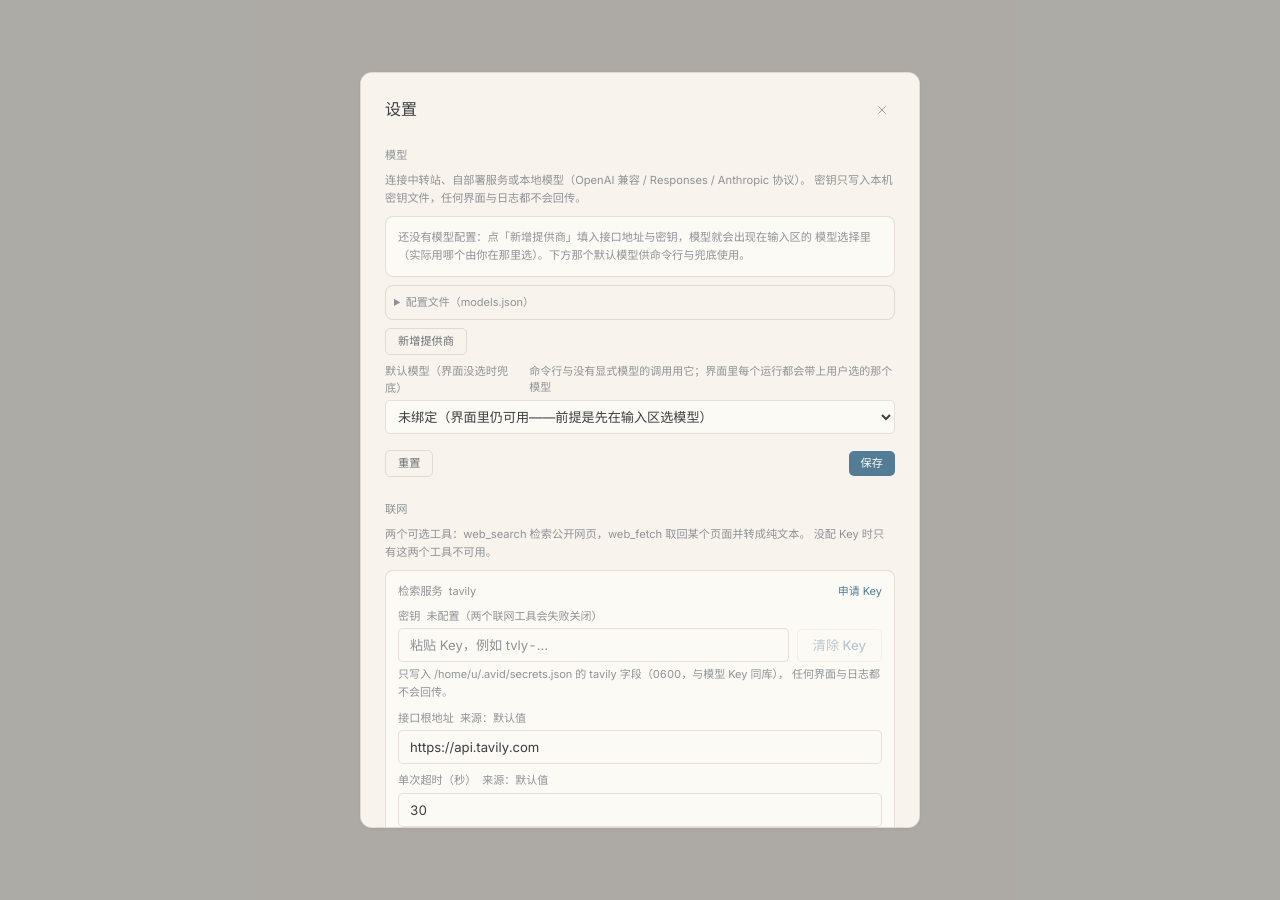
Test: SettingsModal（设置界面 · BYOK 模型段） › 校验：接口地址缺协议时给出可执行的错误，不发起保存
Click the button "新增提供商" at {"x": 426, "y": 341}, box [385,328,467,355]
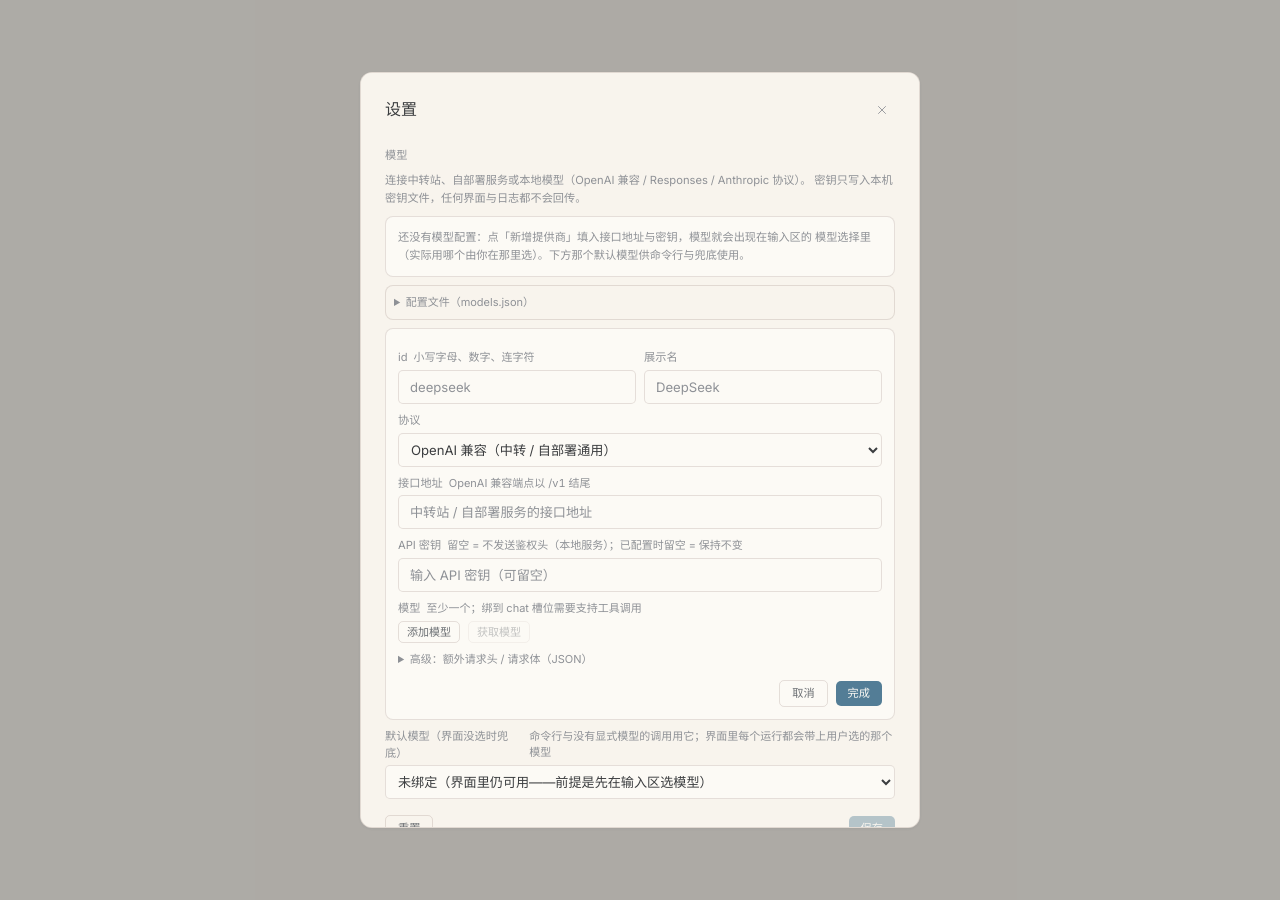
Type "x" into the field with placeholder "deepseek" at {"x": 517, "y": 387}, box [398,370,636,404]
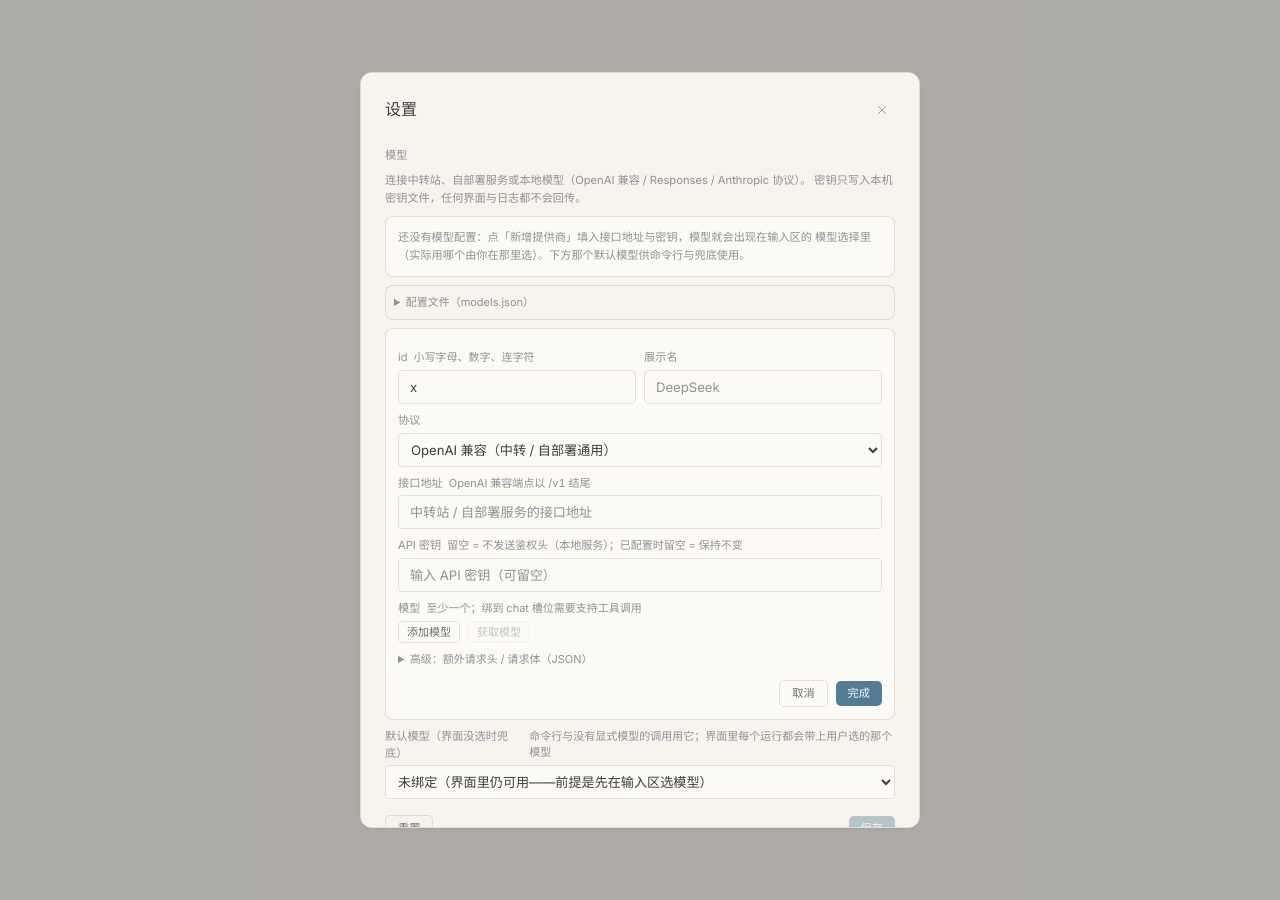
Type "X" into the field with placeholder "DeepSeek" at {"x": 763, "y": 387}, box [644,370,882,404]
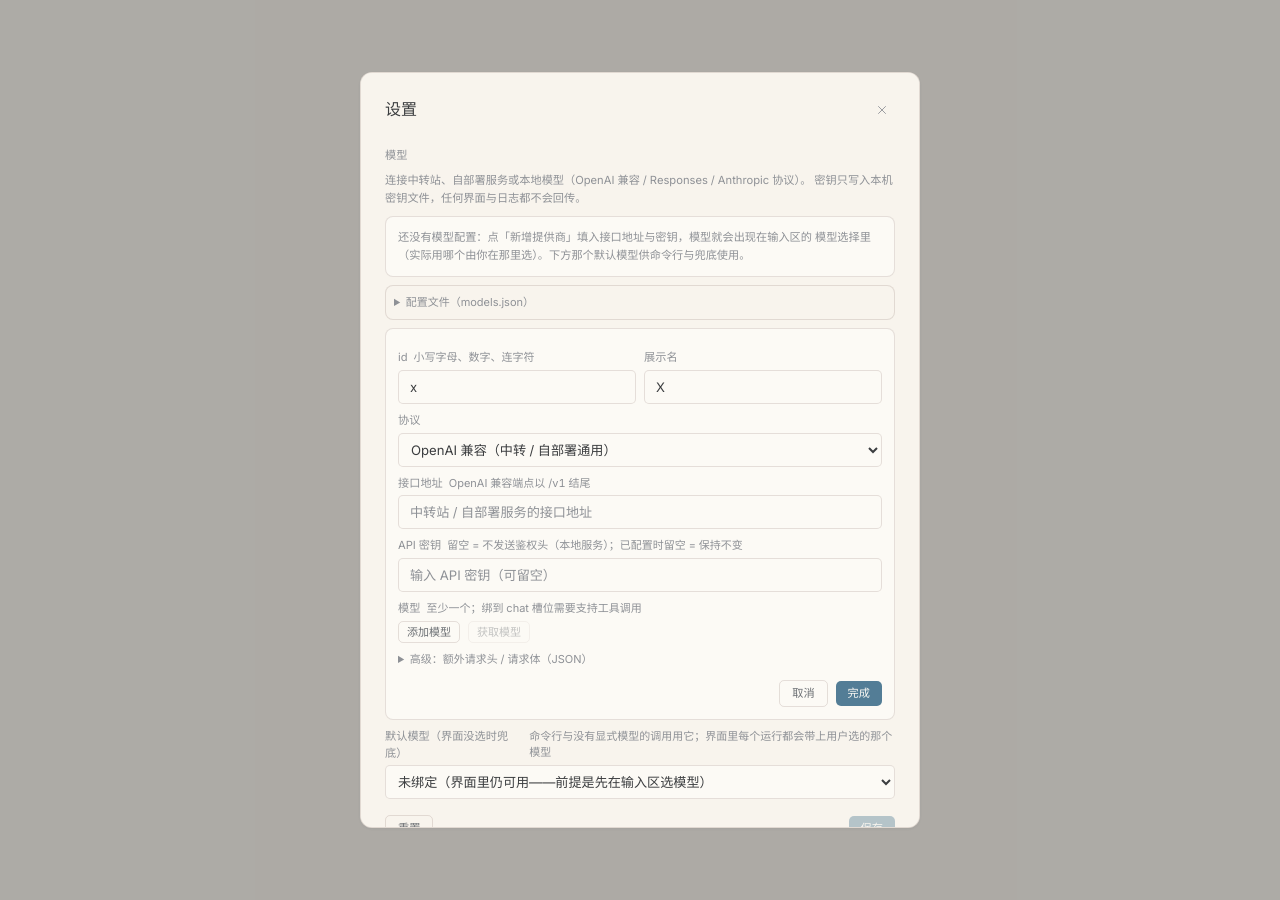
Type "api.example.com/v1" into the field with placeholder "中转站 / 自部署服务的接口地址" at {"x": 640, "y": 512}, box [398,495,882,529]
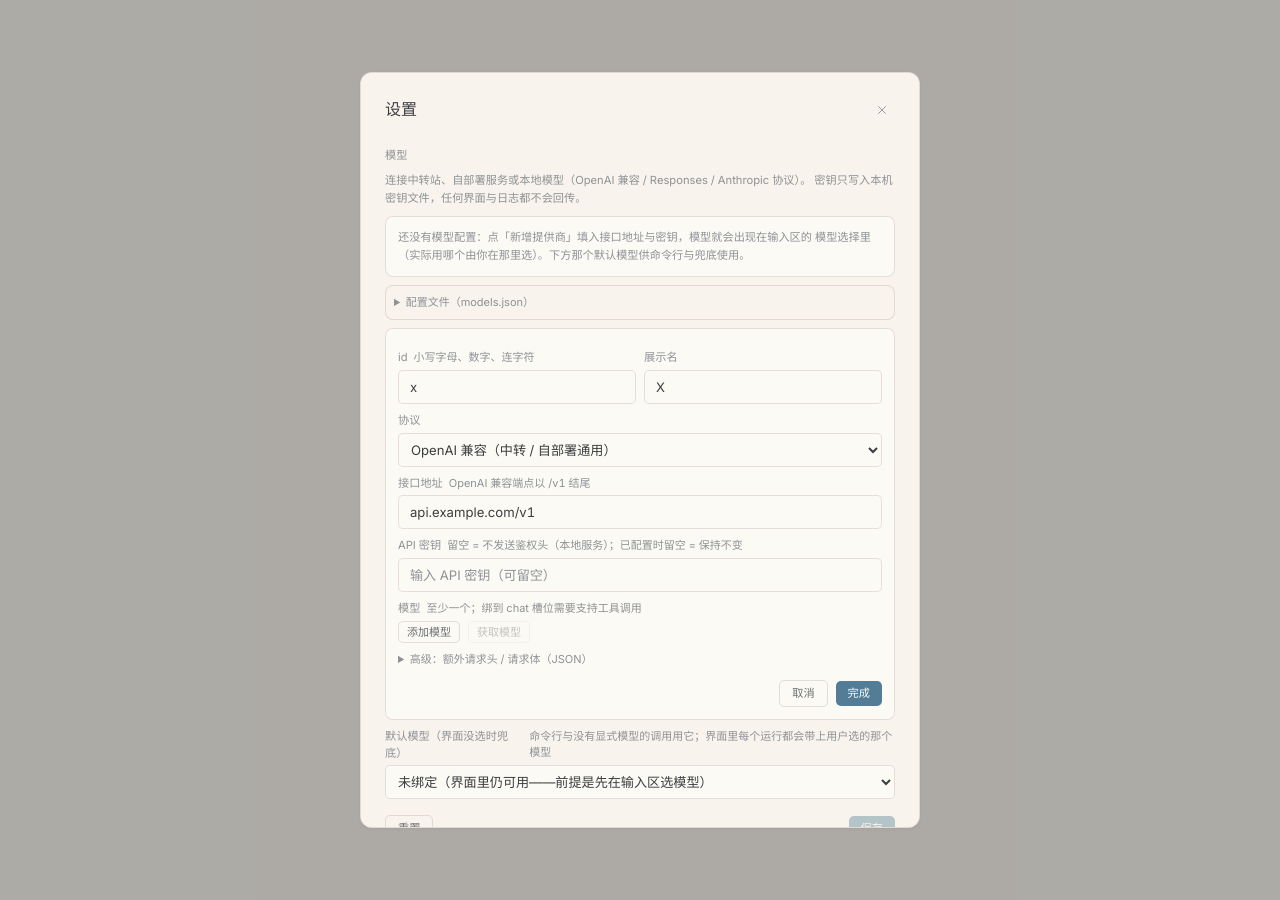
Click the button "完成" at {"x": 859, "y": 693}, box [836,681,882,706]
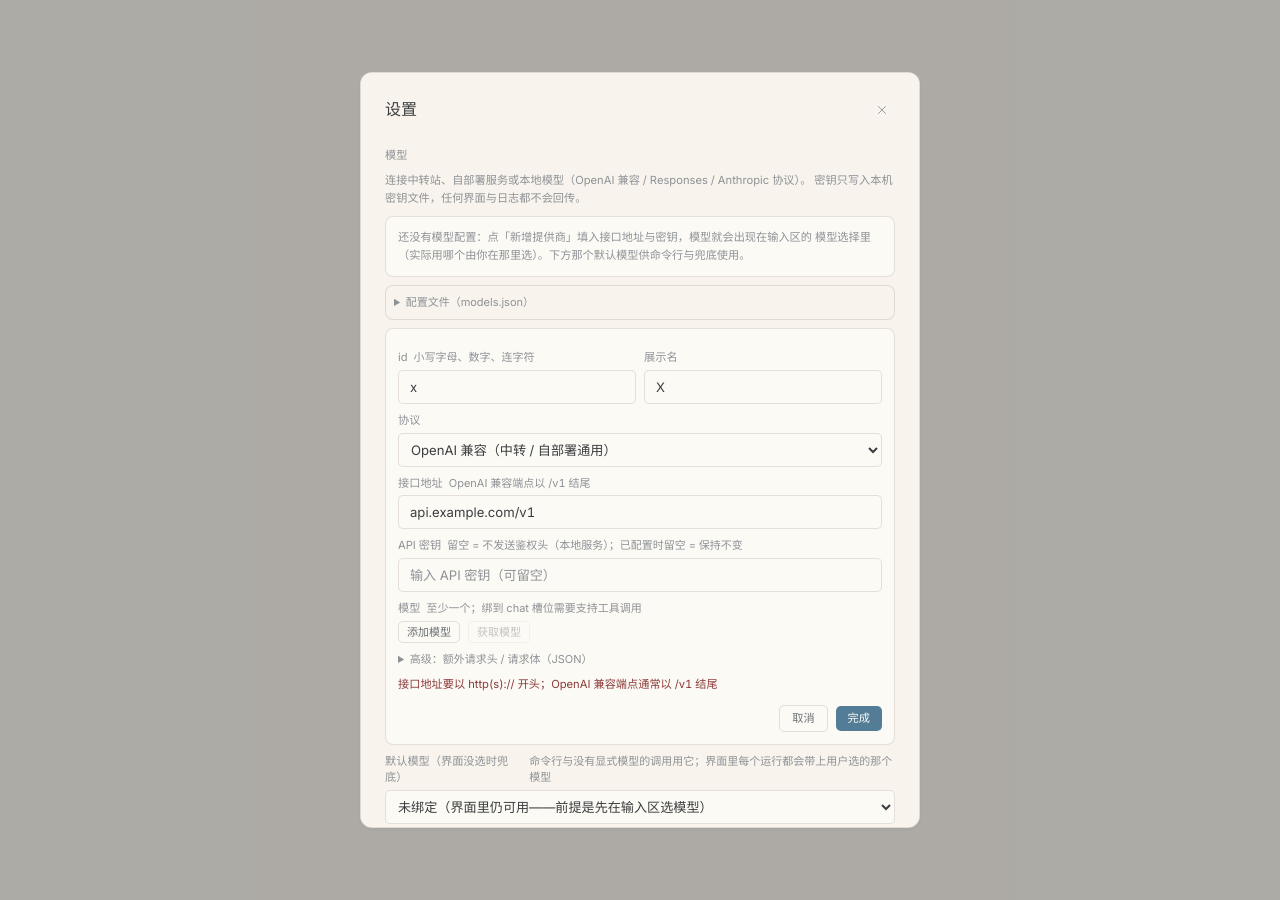
Check: the text "接口地址要以 http(s):// 开头；OpenAI 兼容端点通常以 /v1 结尾" is shown, box [398,677,718,691]
